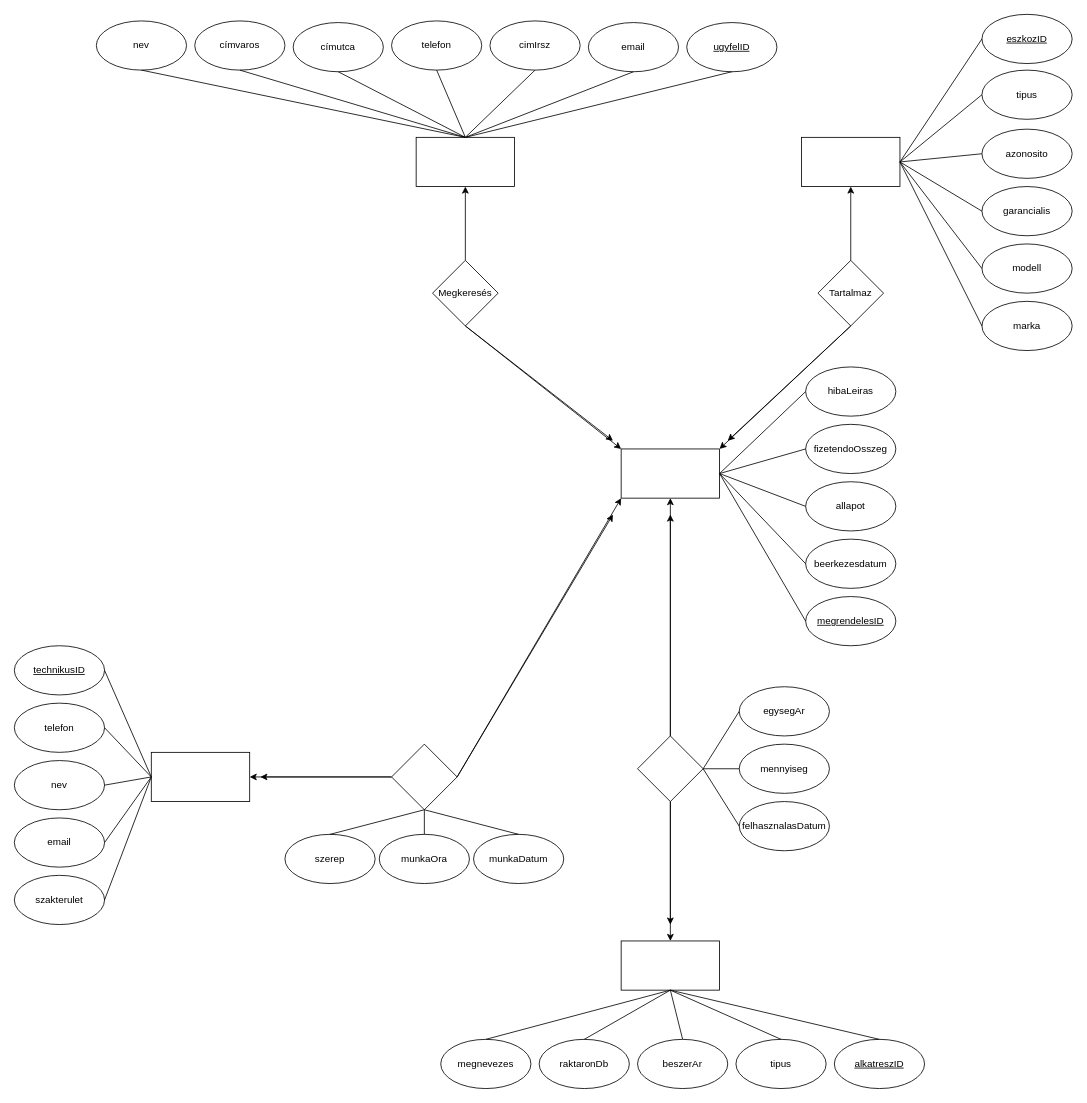
Some shapes in this 1087 by 1103 pixel diagram are drawn without their labels. Here are the shapes that lost their labels. From the top down, the centre of each, then its label:
point (465, 162): Ügyfél
point (850, 162): Eszköz
point (670, 473): Megrendelés
point (200, 777): Technikus
point (424, 776): Szerelés
point (670, 768): Felhasznált Alkatrész
point (670, 965): Alkatrész
